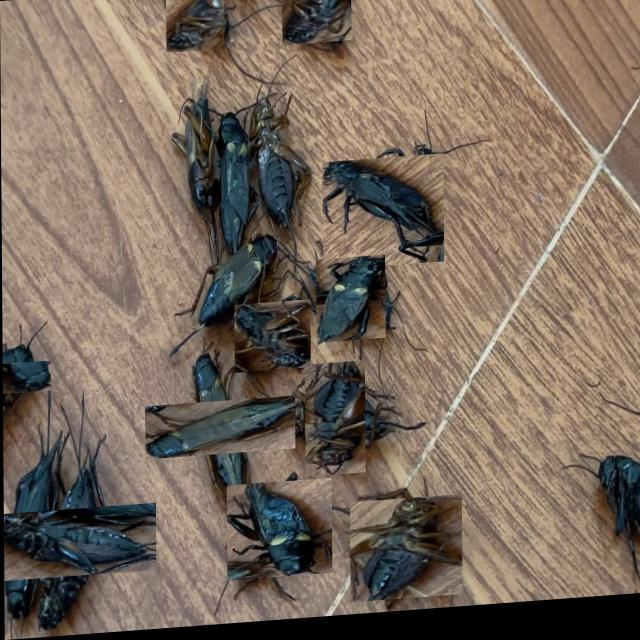egg: (349, 503, 461, 604), (3, 513, 155, 576), (145, 399, 294, 460), (3, 452, 54, 618), (198, 239, 278, 328), (304, 366, 365, 478), (220, 118, 252, 256), (595, 464, 640, 549), (258, 151, 300, 231), (167, 0, 224, 53), (2, 360, 50, 392)
no_egg: (322, 165, 444, 268), (226, 486, 331, 579), (173, 86, 222, 256), (316, 261, 385, 345), (233, 307, 310, 371), (283, 0, 347, 49)
